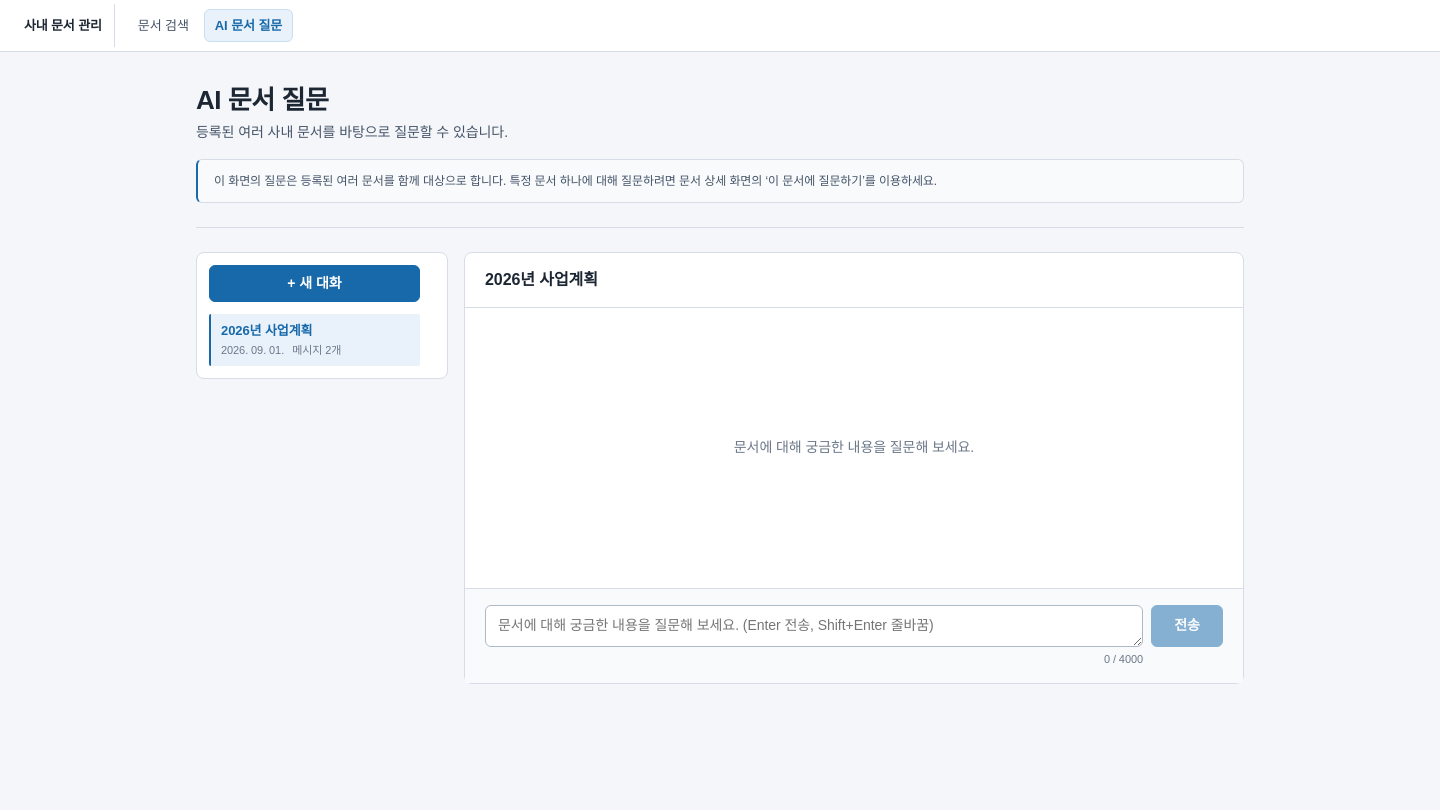
Test case: ChatPage · sending › keeps the failed question and offers a retry
Step 1. Type "예산 알려줘" into the text box named "질문 입력" → (814, 626), box [485, 605, 1143, 647]
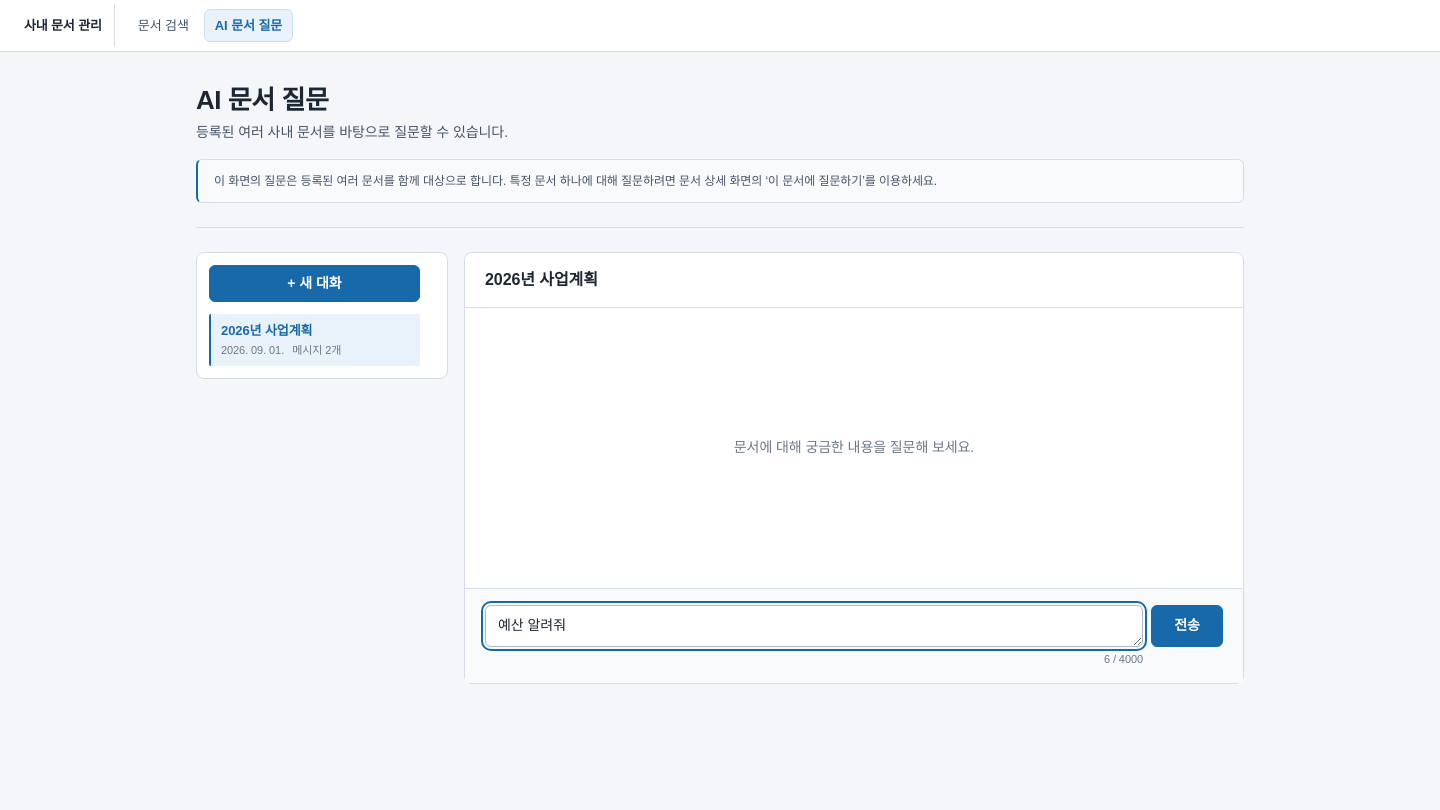
Step 2. Click the button "전송" → click(1187, 626), box [1151, 605, 1223, 647]
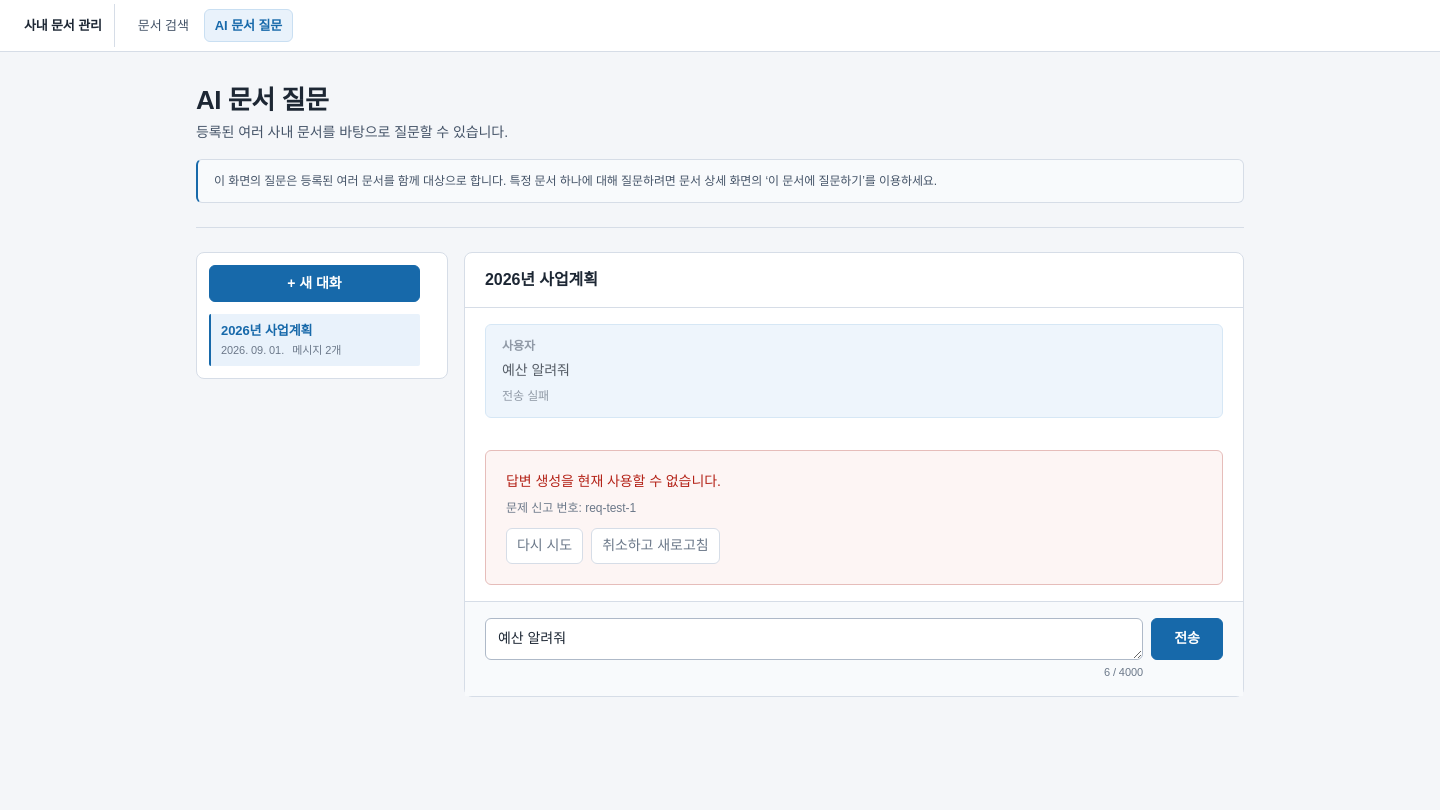
Now the text "전송 실패" is shown, box [502, 389, 549, 403]
Now the button "다시 시도" is enabled, box [506, 528, 583, 564]
